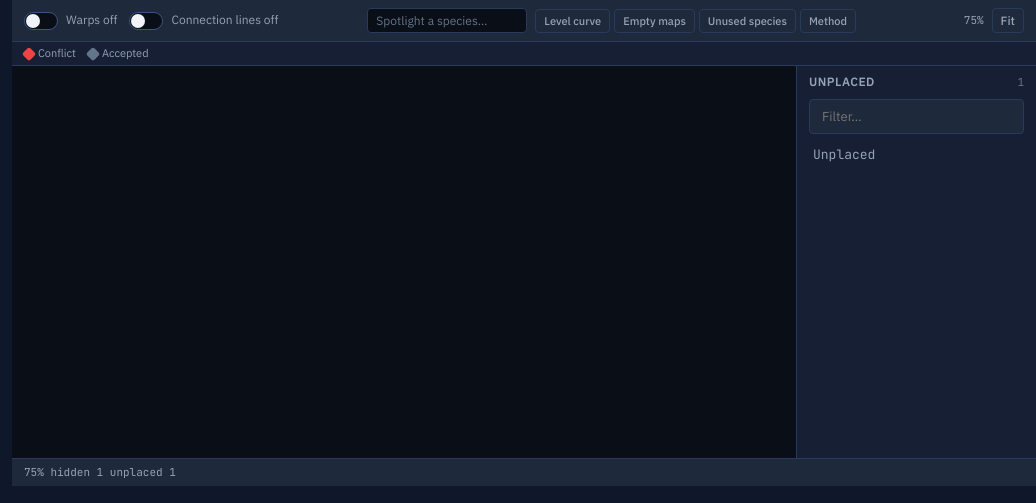
Test: fits manually, fits anchored filter members and waits to jump outside the filter
Click the button "Fit": point(1008, 20) x1=992 y1=8 x2=1024 y2=33
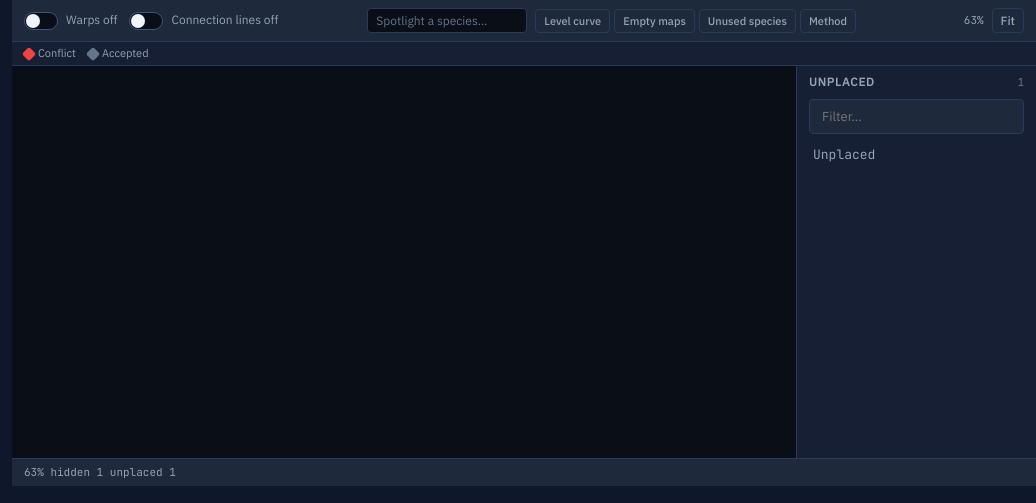
Check: the element with class "world-canvas__status" shows "63%", box x1=12 y1=458 x2=1035 y2=486
